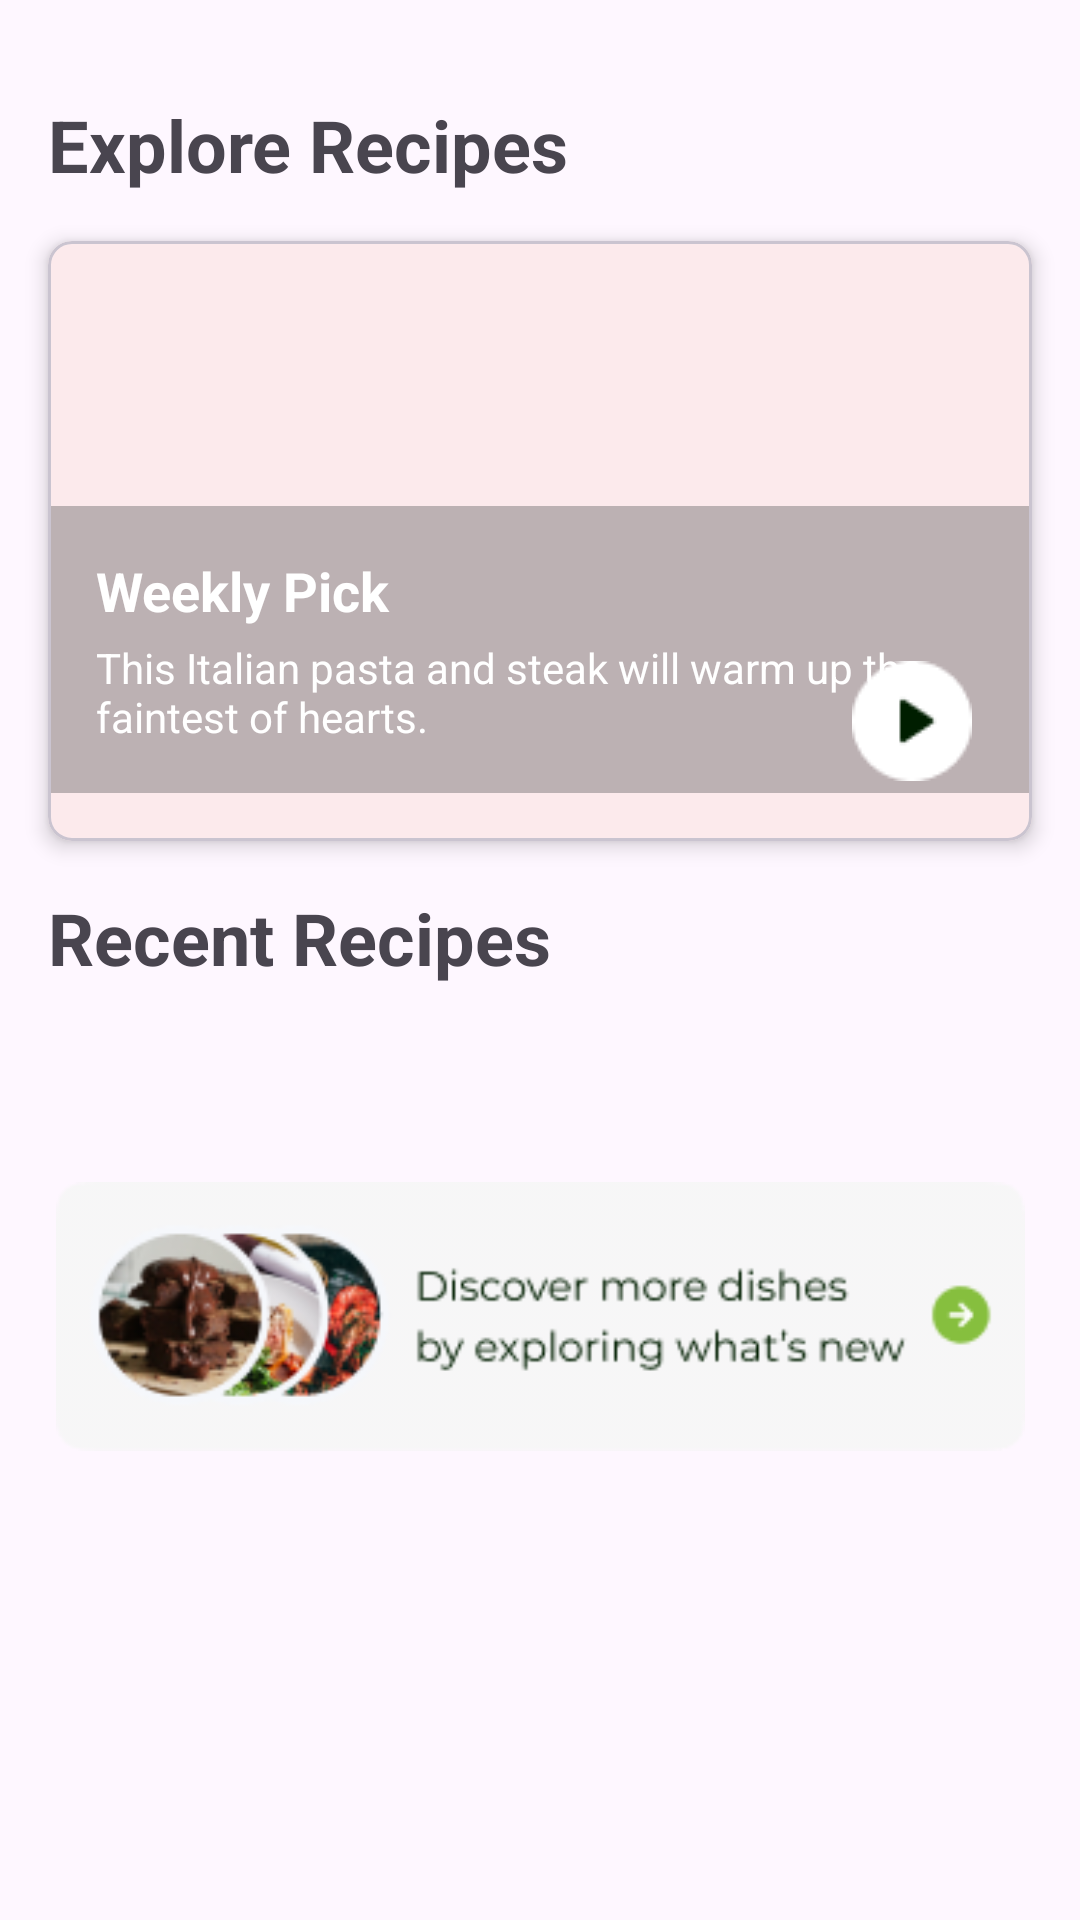

Named icons in this screenshot (1080px×1920px) and their bounding boxes, (x1, y1, x2, y2):
play: (852, 652, 972, 781)
